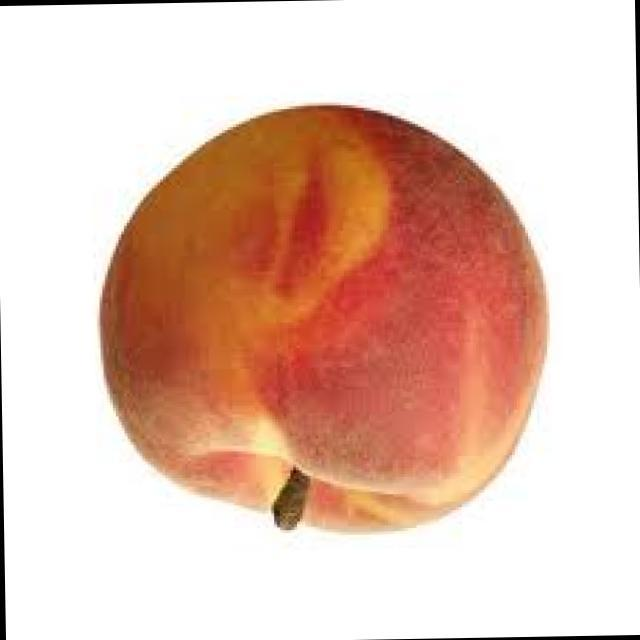Peach: (53, 83, 594, 600)
